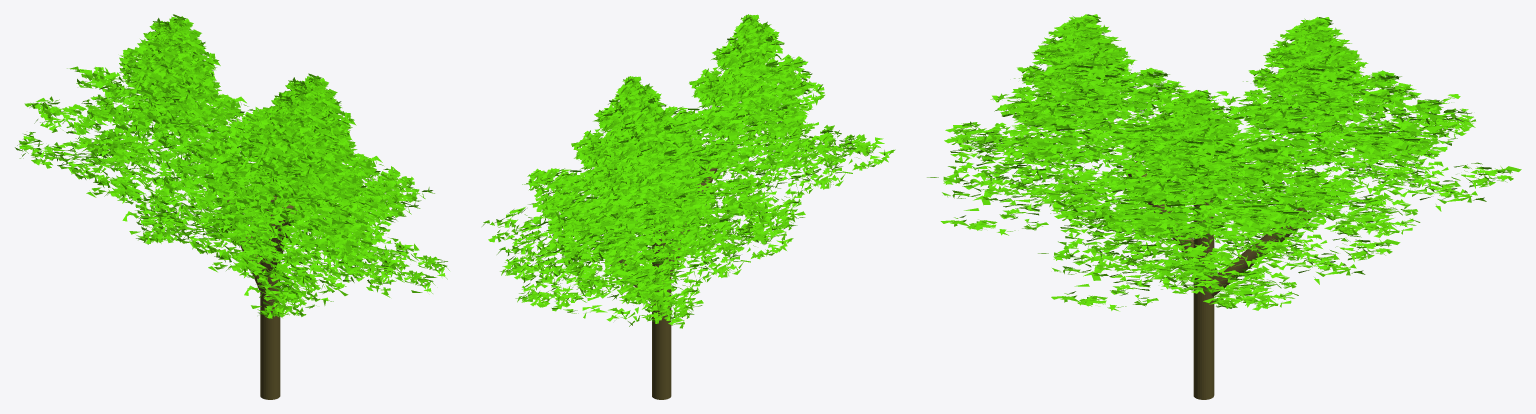
The model's file is tree4.glb.
The picture shows the model from 3 angles, left to right: view 1: azimuth 30°, elevation 25°; view 2: azimuth 150°, elevation 25°; view 3: azimuth 270°, elevation 25°; orthographic projection. The views are drawn at different scales.
Parts seen in each view (by area): view 1: leaves.001; view 2: leaves.001; view 3: leaves.001.
Boxes of the visible parts, <box> form: leaves.001: <box>15,14,449,399</box>; leaves.001: <box>482,14,895,399</box>; leaves.001: <box>927,14,1521,399</box>.
Bounding box in the file's own units: 17.3 × 19.76 × 29.47.
